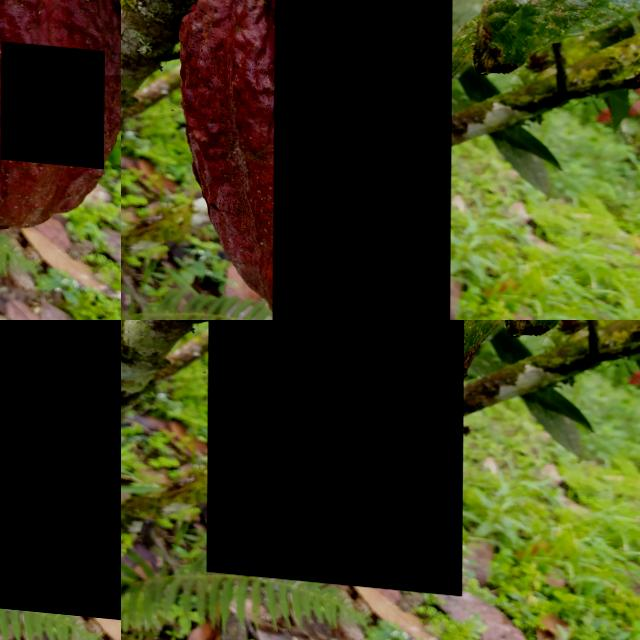Monilia: (273, 0, 452, 320)
Sana: (207, 320, 464, 587), (0, 320, 121, 624), (2, 35, 105, 161)
